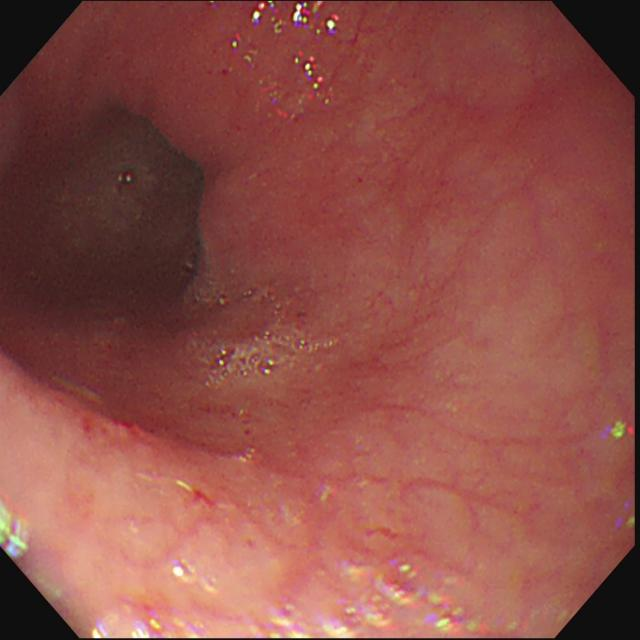E: (15, 90, 219, 342)
T: (92, 561, 313, 638), (187, 281, 332, 383), (322, 551, 480, 638)
U: (248, 2, 340, 36), (293, 49, 334, 106), (2, 505, 31, 563), (611, 419, 637, 444), (231, 31, 243, 52)
